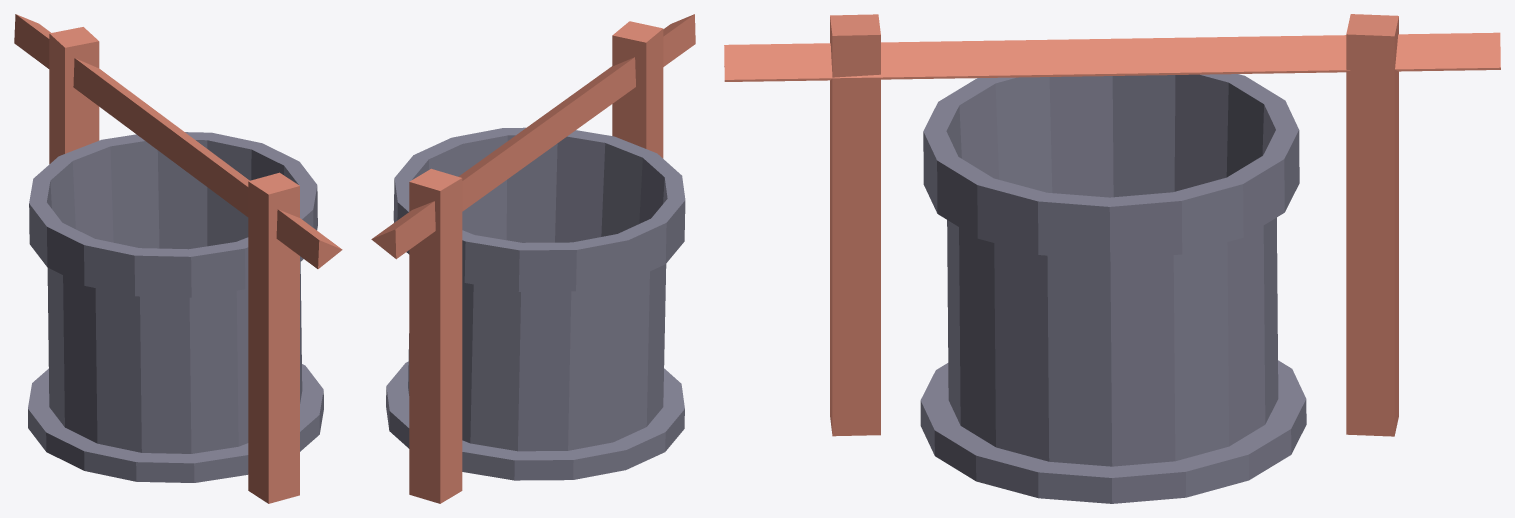
File: well.fbx
The picture shows the model from 3 angles, left to right: view 1: azimuth 30°, elevation 25°; view 2: azimuth 150°, elevation 25°; view 3: azimuth 270°, elevation 25°; orthographic projection. The views are drawn at different scales.
Visible parts, largest first — view 1: stands; view 2: stands; view 3: stands.
Part boxes in pixels (<box>): stands: <box>14,14,342,503</box>; stands: <box>371,14,695,503</box>; stands: <box>724,14,1500,503</box>.
Bounding box in the file's own units: 288 × 331 × 579.
